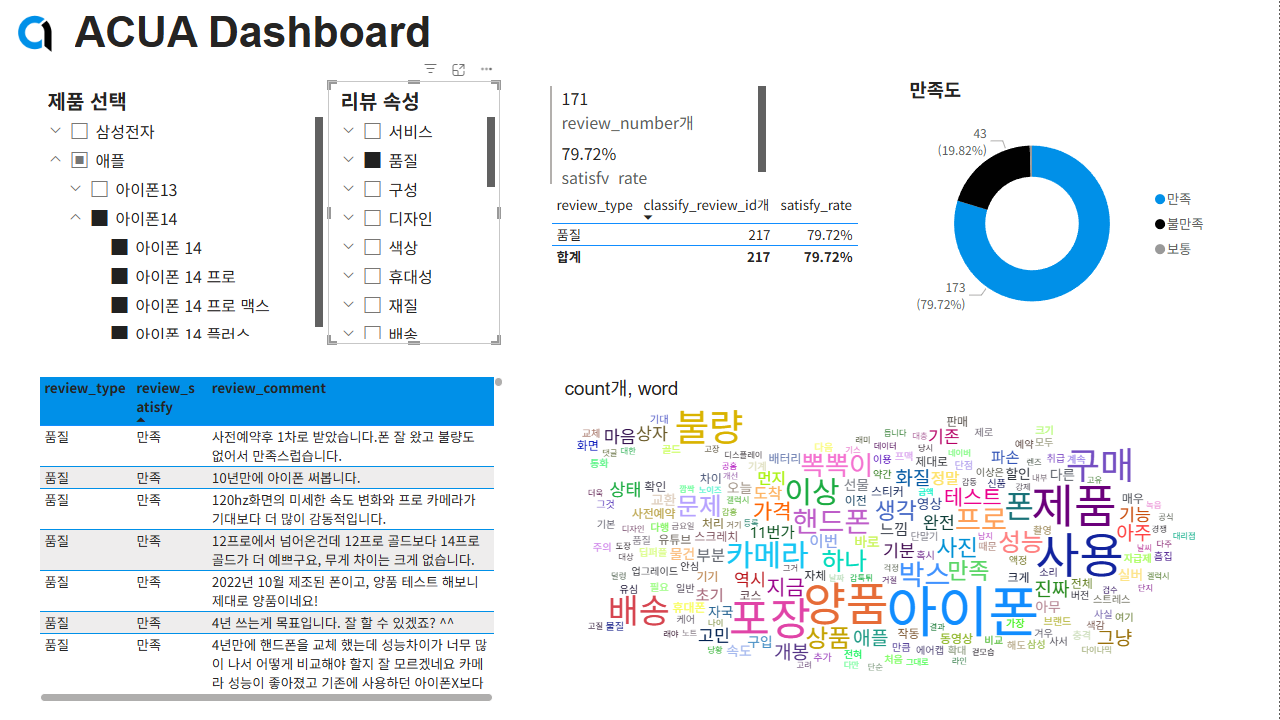

The page's visual inventory and layout, read from the dashboard file:
{"tool":"powerbi","page":{"name":"1 페이지","canvas":[1280,720],"ordinal":0},"visuals":[{"type":"slicer","fields":{"Values":["models.브랜드","models.시리즈","models.제품명(용량x)"]},"box":[35.6,81.1,293.3,263.3],"z":0},{"type":"slicer","fields":{"Values":["gpt_result.review_type","gpt_result.classify_review_id"]},"box":[328.7,81.3,172.5,263.2],"z":1000},{"type":"WordCloud1447959067750","fields":{"Category":["wordset.word"],"Values":["CountNonNull(wordset.count)"]},"box":[560.8,372.6,719,334.1],"z":2000},{"type":"donutChart","title":"만족도","fields":{"Category":["gpt_result.review_satisfy"],"Y":["CountNonNull(gpt_result.classify_review_id)"]},"box":[906.3,74.9,312.9,276.5],"z":3000},{"type":"tableEx","fields":{"Values":["gpt_result.review_type","gpt_result.review_satisfy","gpt_result.review_comment"]},"box":[35.5,372.4,473.5,334.3],"z":4000},{"type":"image","box":[0,0,70.9,65.1],"z":5000},{"type":"textbox","box":[70.7,2.9,386.4,62.1],"z":6000},{"type":"multiRowCard","fields":{"Values":["gpt_result.review_number","gpt_result.satisfy_rate"]},"box":[546.2,80.7,212.8,108.2],"z":7000},{"type":"tableEx","fields":{"Values":["gpt_result.review_type","gpt_result.classify_review_id","gpt_result.satisfy_rate"]},"box":[546.6,188.9,296.7,155.6],"z":8000}]}

Visuals, with their boxes in screenshot pixels (x1, y1, x2, y2), scaled from the page's 1280x720 canvas onto the 1280x720 screenshot:
slicer - models.브랜드 x models.시리즈: 36, 81, 329, 344
slicer - gpt_result.review_type x gpt_result.classify_review_id: 329, 81, 501, 344
WordCloud1447959067750 - wordset.word x CountNonNull(wordset.count): 561, 373, 1279, 707
"만족도" donutChart: 906, 75, 1219, 351
tableEx - gpt_result.review_type x gpt_result.review_satisfy: 36, 372, 509, 707
image: 0, 0, 71, 65
textbox: 71, 3, 457, 65
multiRowCard - gpt_result.review_number x gpt_result.satisfy_rate: 546, 81, 759, 189
tableEx - gpt_result.review_type x gpt_result.classify_review_id: 547, 189, 843, 344
